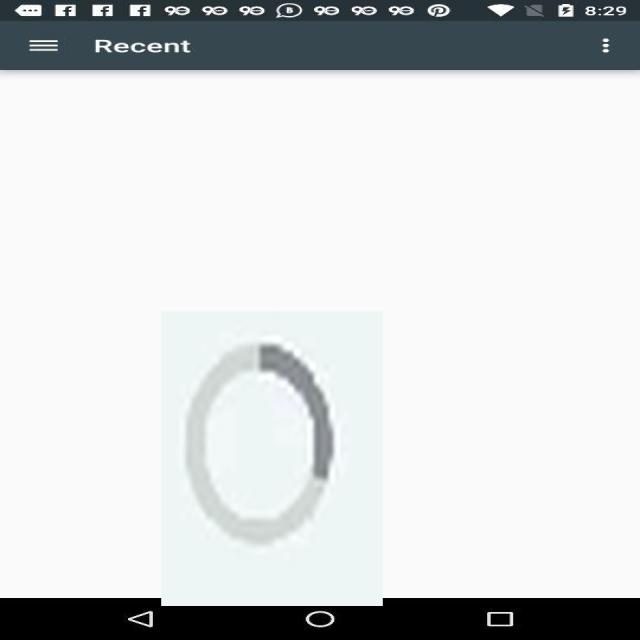misdirection: (161, 311, 383, 606)
